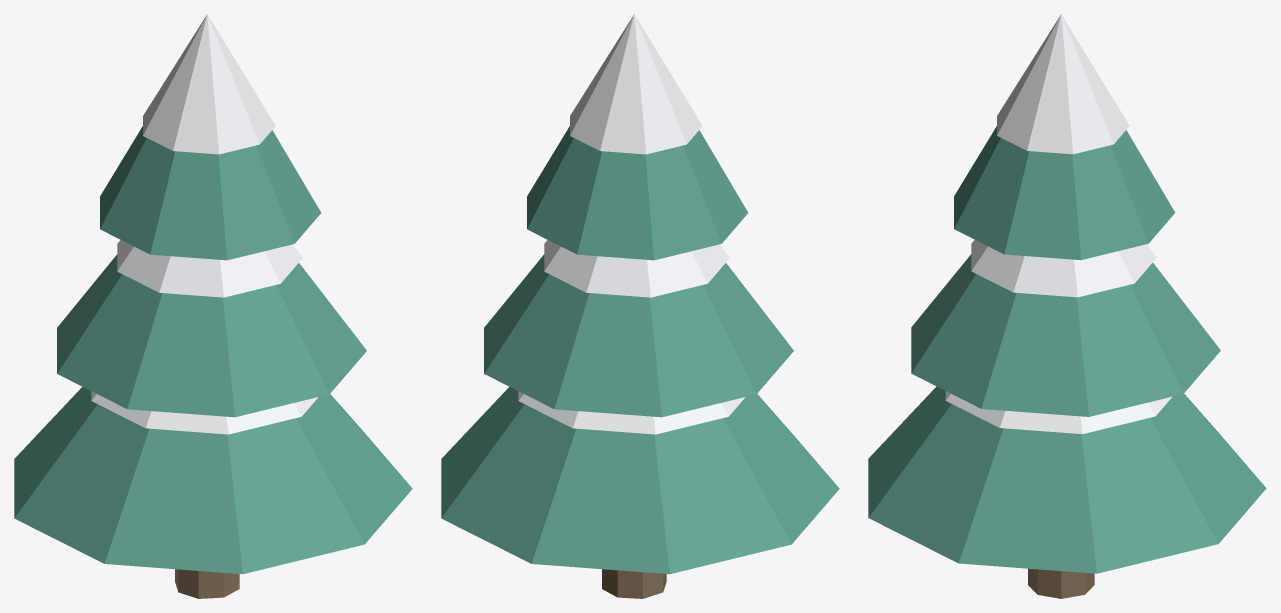
File: snow__pine.fbx
3 views of the same model, side by side, from view 1: azimuth 30°, elevation 25°; view 2: azimuth 150°, elevation 25°; view 3: azimuth 270°, elevation 25° (orthographic).
Visible parts, largest first — view 1: snow__pine; view 2: snow__pine; view 3: snow__pine.
Boxes of the visible parts, bbox=[...] form: snow__pine: bbox=[14, 14, 412, 598]; snow__pine: bbox=[441, 14, 839, 598]; snow__pine: bbox=[868, 14, 1266, 598].
Bounding box in the file's own units: 2.66 × 4.14 × 2.62.
